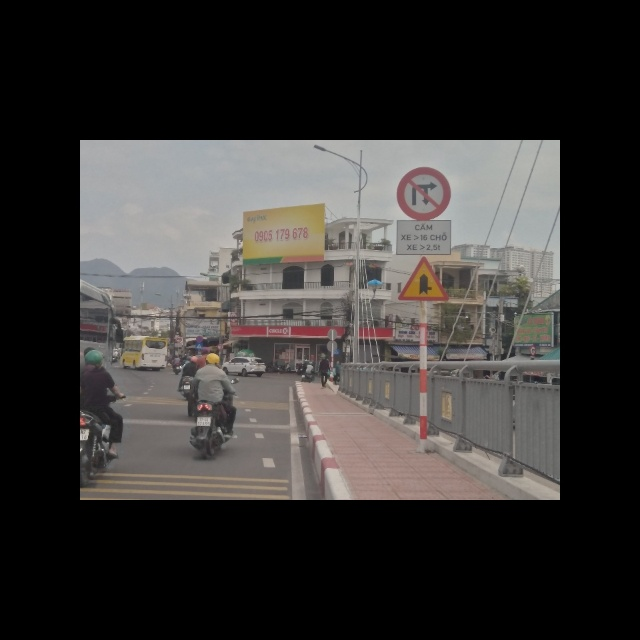Cấm quay đầu và rẽ phải: (396, 166, 450, 221)
Giao nhau với đường không ưu tiên: (398, 256, 448, 300)
